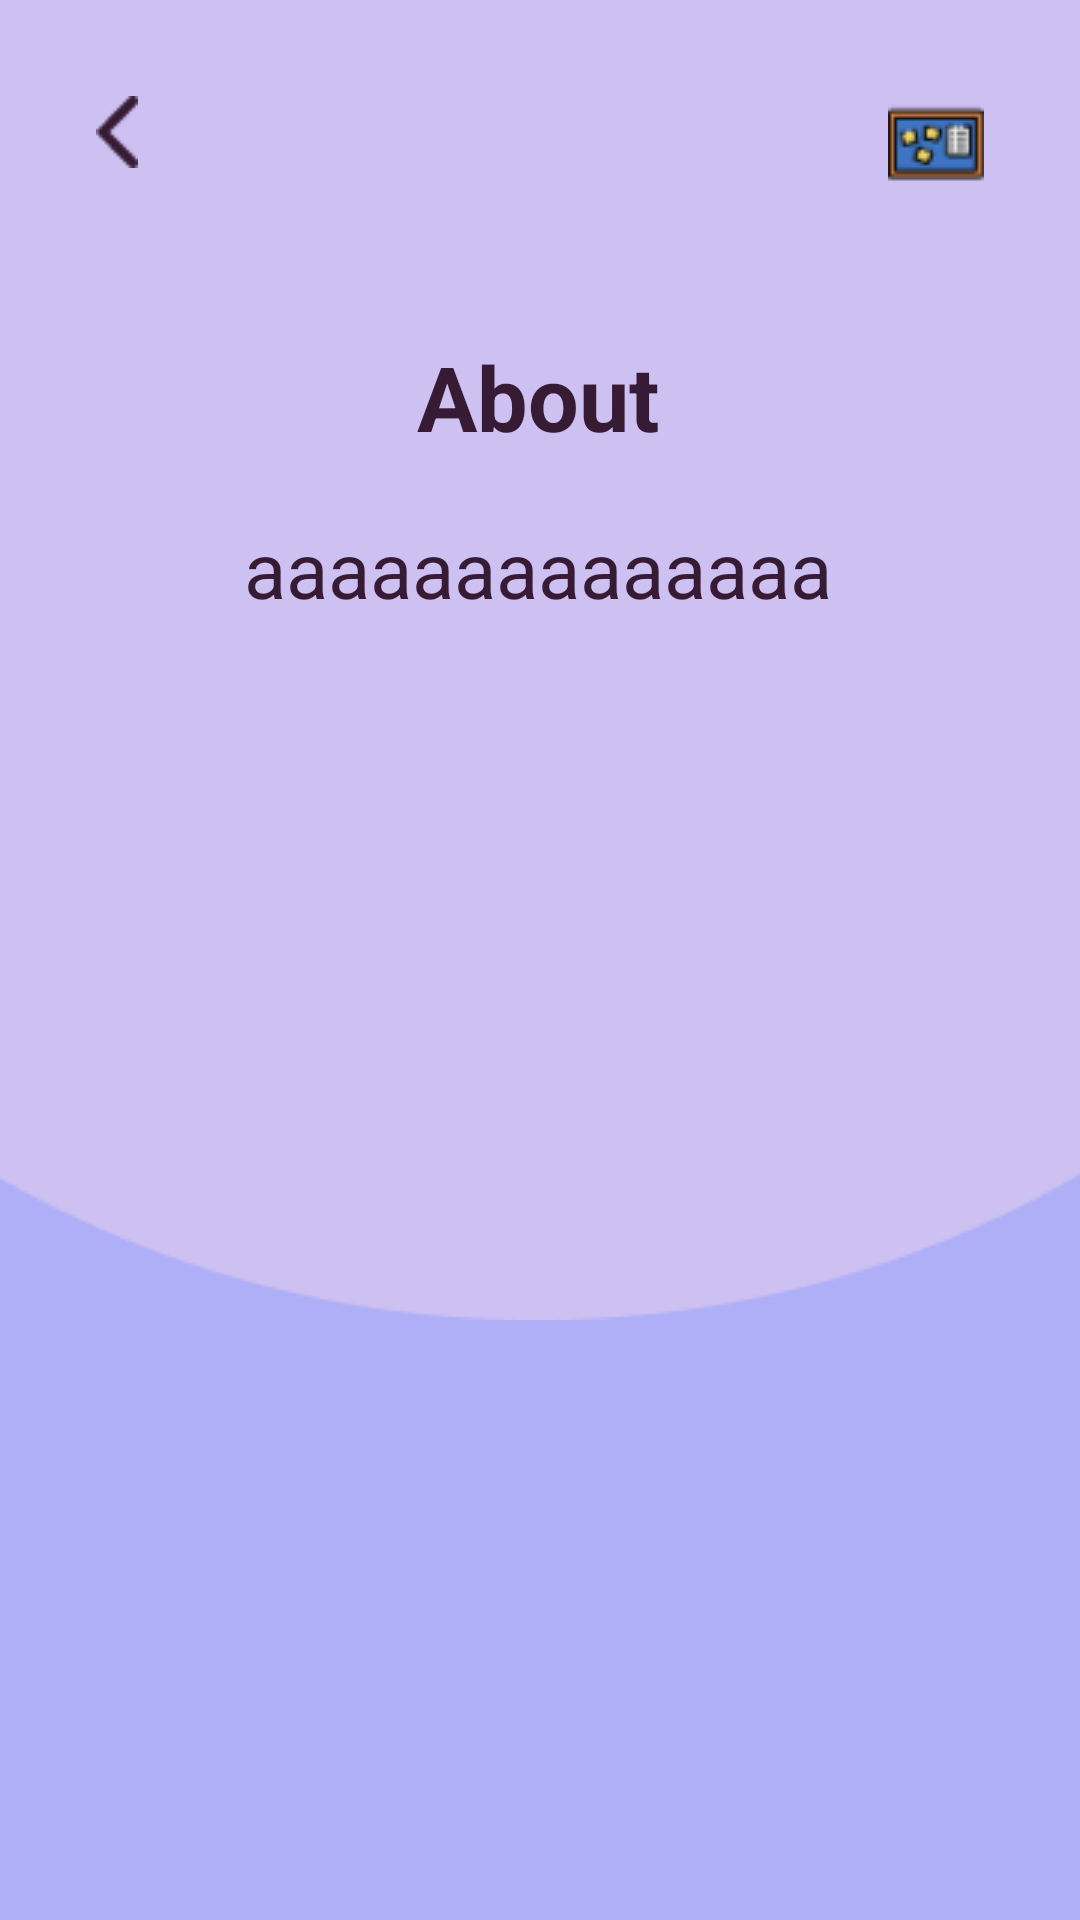

Icon bounding boxes for this 1080w x 1920h phone screenshot, format (x1, y1, x2, y2):
back: (96, 96, 138, 168)
